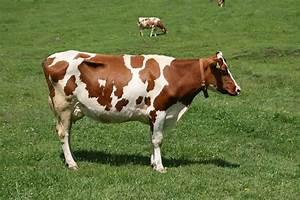cow: (41, 48, 241, 173), (136, 16, 168, 38)
